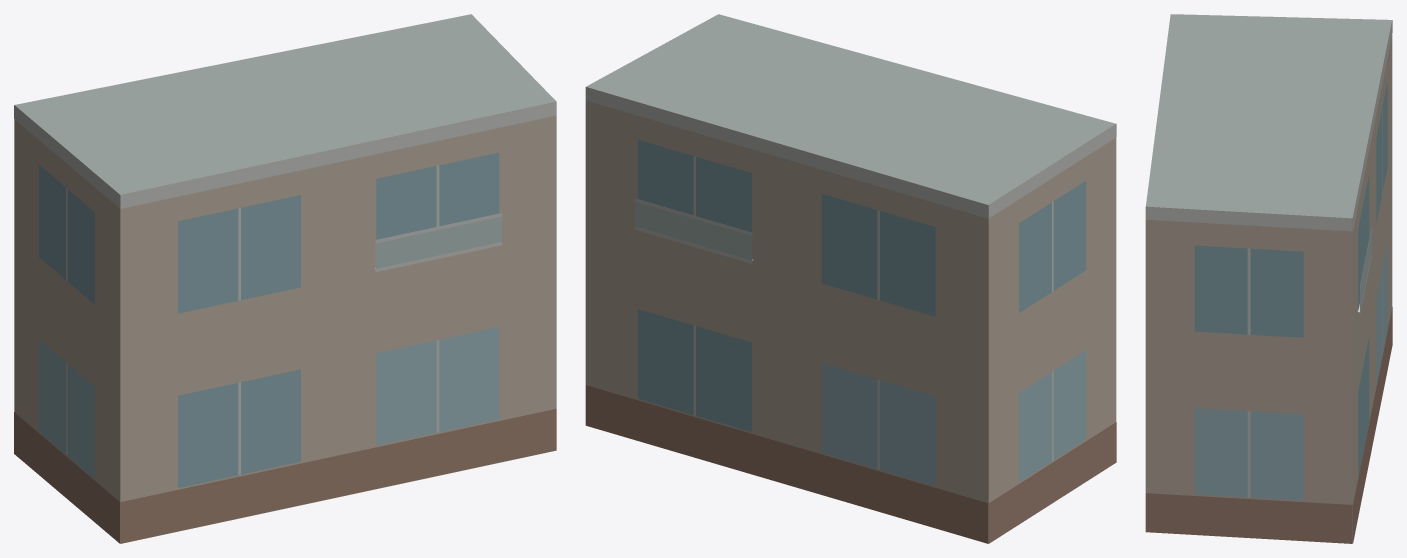
File: survey-upis-32611078.glb
3 views of the same model, side by side, from view 1: azimuth 30°, elevation 25°; view 2: azimuth 150°, elevation 25°; view 3: azimuth 270°, elevation 25° (orthographic). The views are drawn at different scales.
Parts seen in each view (by area): view 1: survey-upis-32611078.tmp; view 2: survey-upis-32611078.tmp; view 3: survey-upis-32611078.tmp.
Part boxes in pixels (box(x1,y1,x2,y2)): survey-upis-32611078.tmp: box(14, 14, 556, 543); survey-upis-32611078.tmp: box(585, 14, 1116, 543); survey-upis-32611078.tmp: box(1145, 14, 1392, 543).
Bounding box in the file's own units: 8.22 × 6.1 × 4.2.
